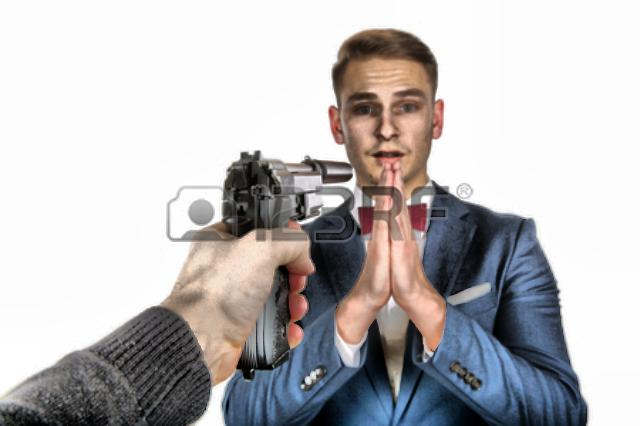pistol: (211, 150, 353, 360)
